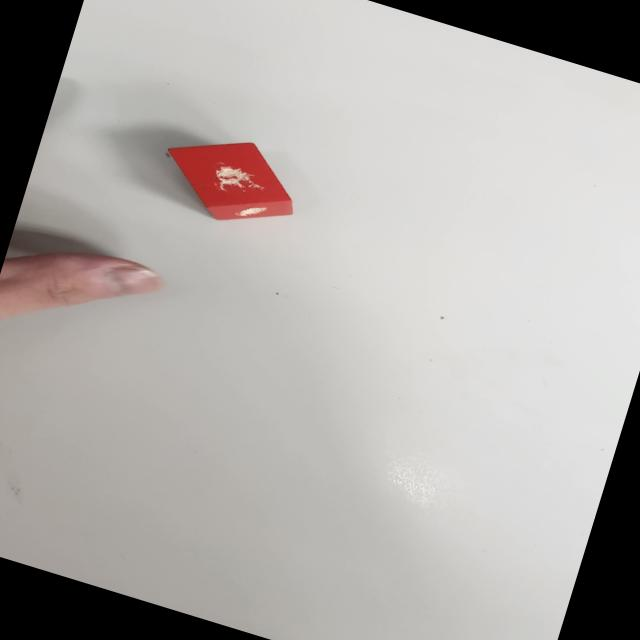broken: (151, 118, 309, 240)
